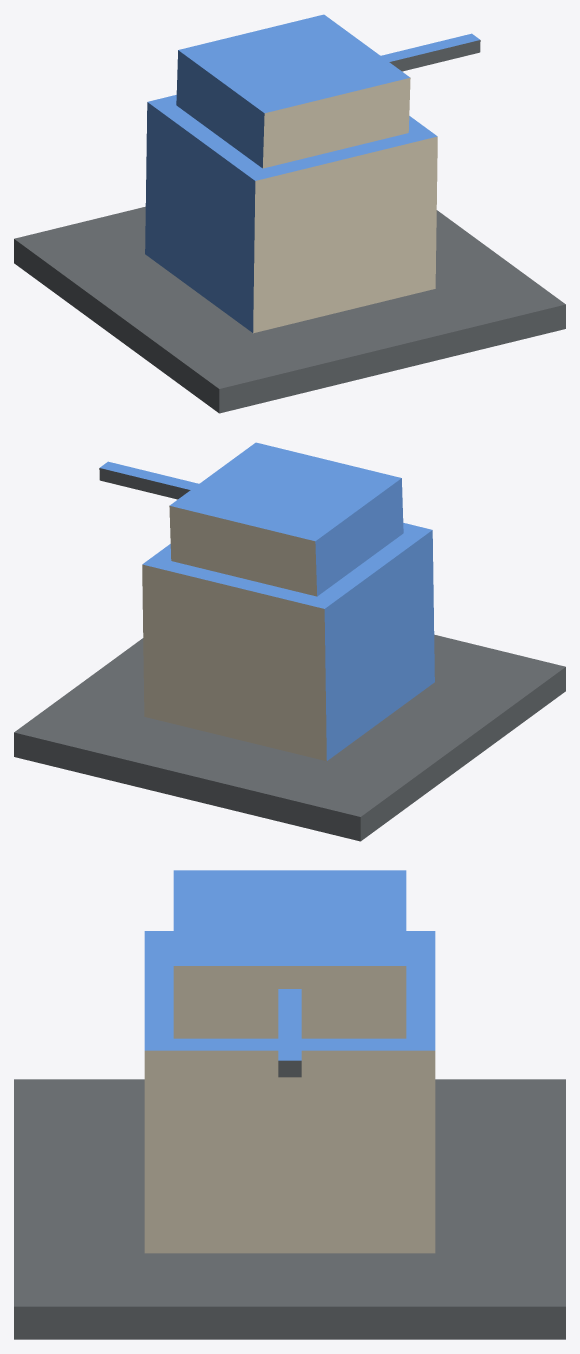
The model's file is meridian_defence_tower_damaged.glb.
The picture shows the model from 3 angles, top to bottom: view 1: azimuth 30°, elevation 25°; view 2: azimuth 150°, elevation 25°; view 3: azimuth 270°, elevation 25°; orthographic projection. The views are drawn at different scales.
Parts seen in each view (by area): view 1: hull, turret, barrel; view 2: hull, turret, barrel; view 3: hull, turret, barrel.
Part boxes in pixels (left/top/right/bottom): hull: left=14, top=95, right=565, bottom=413; turret: left=176, top=14, right=410, bottom=168; barrel: left=381, top=33, right=480, bottom=71; hull: left=14, top=523, right=565, bottom=841; turret: left=169, top=442, right=403, bottom=596; barrel: left=99, top=461, right=198, bottom=499; hull: left=14, top=931, right=565, bottom=1339; turret: left=173, top=870, right=406, bottom=1038; barrel: left=278, top=989, right=301, bottom=1077.
Bounding box in the file's own units: 3.84 × 2.36 × 3.8.
